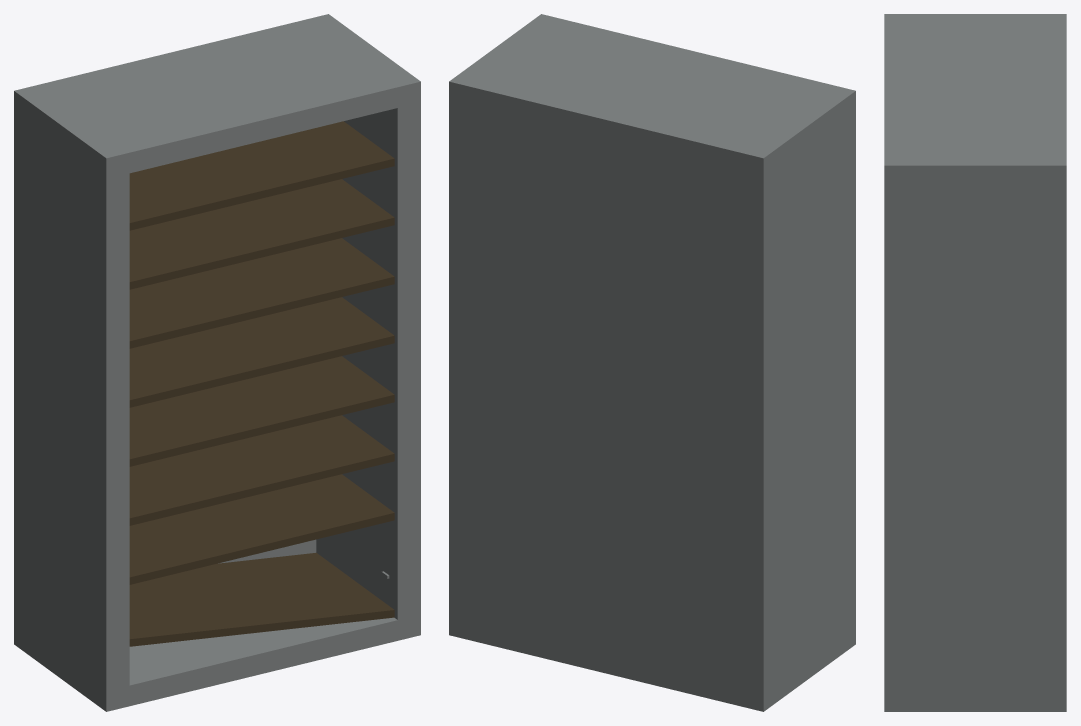
Rendered from Shelf_Enclosed_Mussed.fbx.
3 views of the same model, side by side, from view 1: azimuth 30°, elevation 25°; view 2: azimuth 150°, elevation 25°; view 3: azimuth 270°, elevation 25° (orthographic).
Visible parts, largest first — view 1: Shelf_Enclosure, Shelves_geo; view 2: Shelf_Enclosure; view 3: Shelf_Enclosure.
Part boxes in pixels (x1,y1,x2,y2): Shelf_Enclosure: (14,14,420,711); Shelves_geo: (129,121,394,646); Shelf_Enclosure: (449,14,855,711); Shelf_Enclosure: (884,14,1066,711).
Size of the model in its own units: 234 by 394 by 119.
